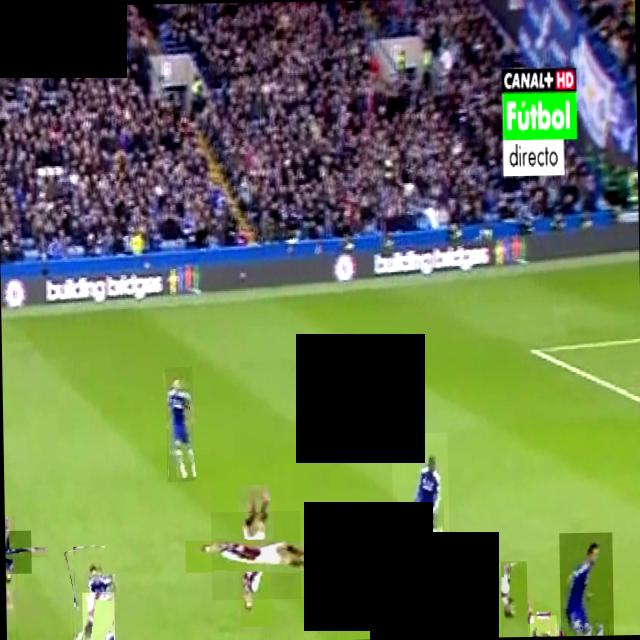soccer-player: (389, 431, 448, 579), (209, 509, 300, 599), (558, 531, 612, 636), (67, 544, 110, 640), (164, 366, 193, 480), (499, 560, 526, 636), (80, 590, 113, 640), (3, 530, 30, 572), (4, 561, 14, 640), (528, 614, 556, 636)
